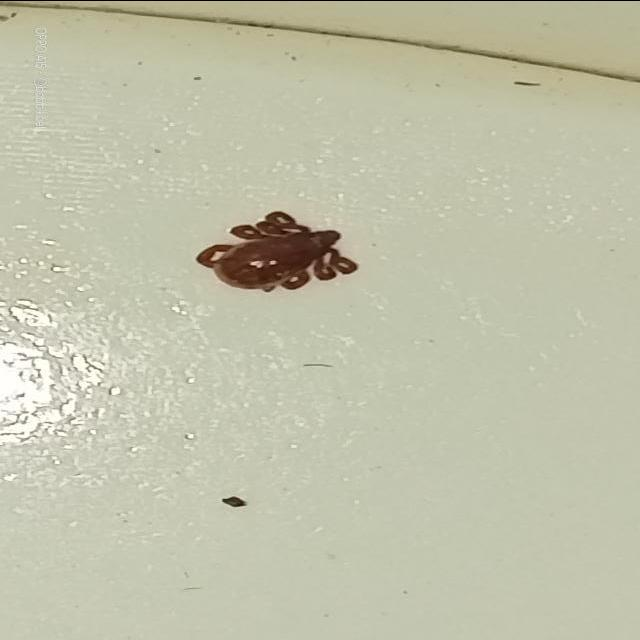Rhipicephalus Sanguineus-M: (194, 209, 359, 293)
